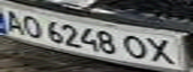2: (57, 21, 81, 50)
4: (78, 25, 100, 52)
6: (39, 18, 66, 44)
8: (97, 28, 118, 56)
A: (0, 7, 30, 34)
O: (121, 33, 151, 61), (18, 12, 45, 39)
X: (142, 34, 184, 66)
